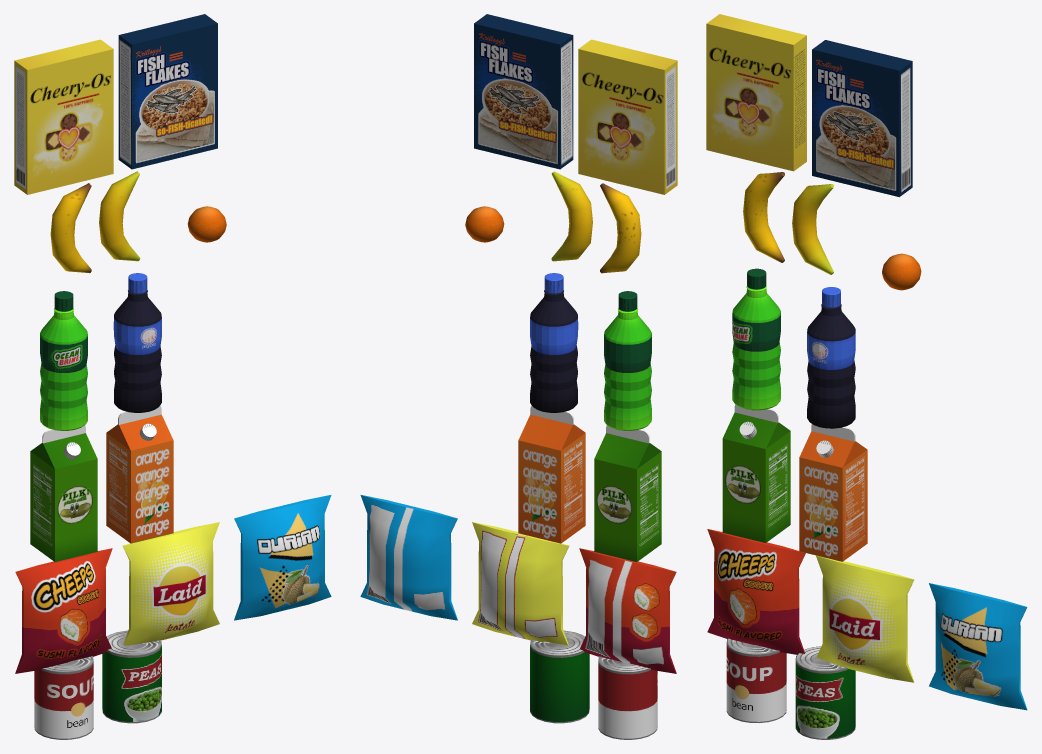
File: item_test.fbx
3 renders of one model, left to right at view 1: azimuth 30°, elevation 25°; view 2: azimuth 150°, elevation 25°; view 3: azimuth 330°, elevation 25°, orthographic.
Visible parts, largest first — view 1: pCube2, pCube4, pCube5, pCube1, pCylinder3, pCylinder10, pCube6, pCylinder8, pCylinder6, pCube7, can1, can (+3 smaller); view 2: pCube2, pCube4, pCube5, pCube1, pCylinder3, pCylinder10, pCube6, pCylinder8, pCylinder6, can1, can, pCube7 (+3 smaller); view 3: pCube4, pCube2, pCube5, pCube1, pCylinder10, pCylinder3, pCube6, pCylinder6, pCylinder8, can1, can, pCube7 (+3 smaller).
Boxes of the visible parts, x1=… form: pCube2: x1=118, y1=14, x2=217, y2=169; pCube4: x1=14, y1=39, x2=113, y2=194; pCube5: x1=234, y1=495, x2=331, y2=620; pCube1: x1=15, y1=548, x2=112, y2=673; pCylinder3: x1=30, y1=425, x2=97, y2=561; pCylinder10: x1=106, y1=406, x2=173, y2=543; pCube6: x1=123, y1=522, x2=219, y2=645; pCylinder8: x1=113, y1=273, x2=161, y2=412; pCylinder6: x1=40, y1=291, x2=87, y2=430; pCube7: x1=122, y1=522, x2=219, y2=645; can1: x1=102, y1=630, x2=161, y2=723; can: x1=34, y1=656, x2=93, y2=739; pCube2: x1=474, y1=14, x2=573, y2=169; pCube4: x1=578, y1=39, x2=677, y2=194; pCube5: x1=360, y1=495, x2=457, y2=620; pCube1: x1=579, y1=548, x2=676, y2=673; pCylinder3: x1=594, y1=425, x2=661, y2=561; pCylinder10: x1=518, y1=406, x2=585, y2=543; pCube6: x1=472, y1=522, x2=568, y2=645; pCylinder8: x1=530, y1=273, x2=578, y2=412; pCylinder6: x1=604, y1=291, x2=651, y2=430; can1: x1=530, y1=630, x2=589, y2=723; can: x1=598, y1=656, x2=657, y2=739; pCube7: x1=472, y1=522, x2=569, y2=645; pCube4: x1=706, y1=14, x2=806, y2=171; pCube2: x1=812, y1=40, x2=912, y2=197; pCube5: x1=929, y1=583, x2=1027, y2=710; pCube1: x1=707, y1=529, x2=805, y2=654; pCylinder10: x1=799, y1=424, x2=867, y2=561; pCylinder3: x1=722, y1=404, x2=790, y2=542; pCube6: x1=816, y1=555, x2=914, y2=682; pCylinder6: x1=732, y1=268, x2=780, y2=410; pCylinder8: x1=807, y1=287, x2=855, y2=428; can1: x1=795, y1=646, x2=855, y2=739; can: x1=726, y1=638, x2=786, y2=722; pCube7: x1=816, y1=556, x2=914, y2=681.
Size of the model in its own units: 97.76 by 199 by 16.
8 materials, 8 textured.
